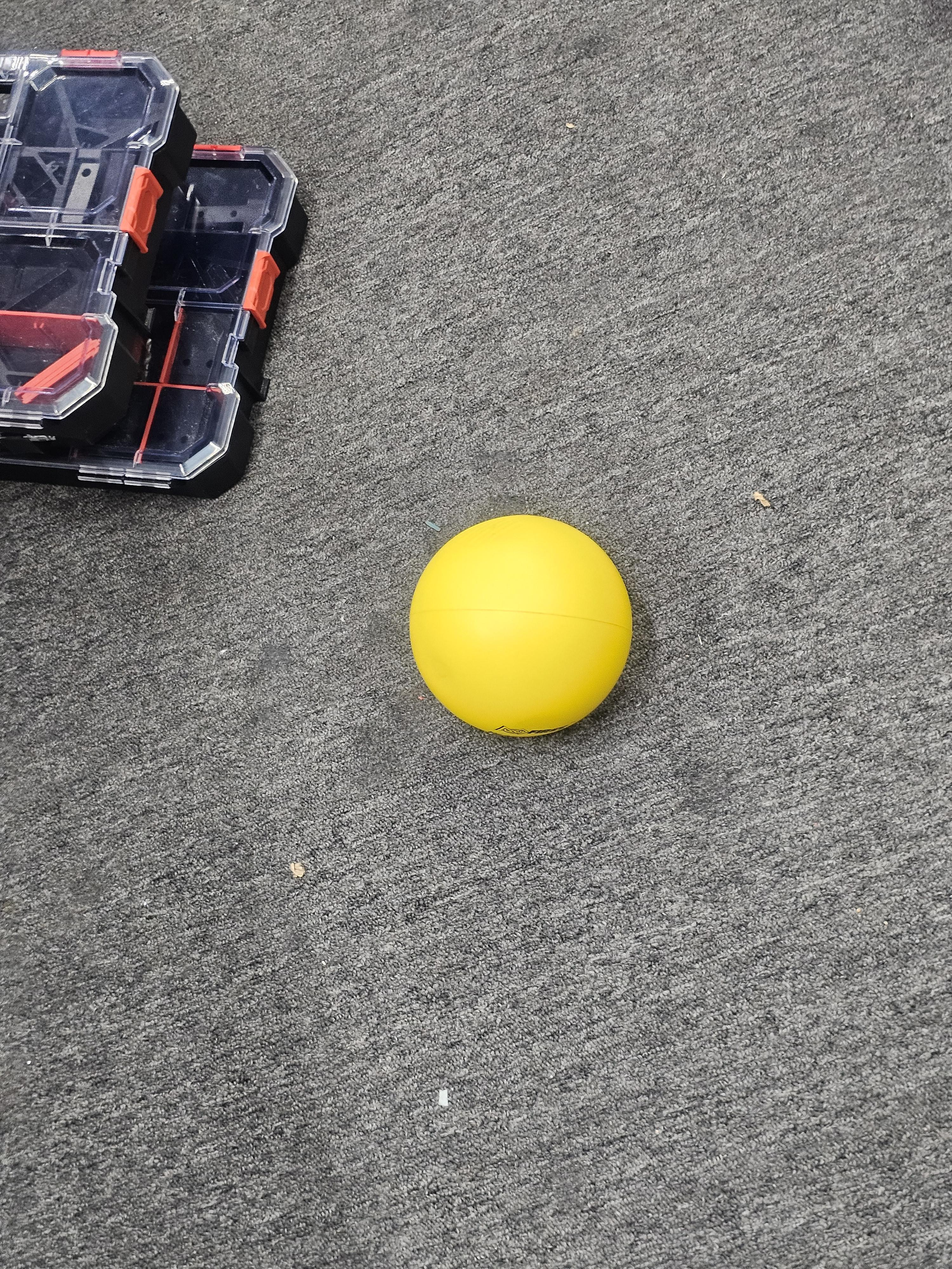fuel: (400, 507, 647, 753)
